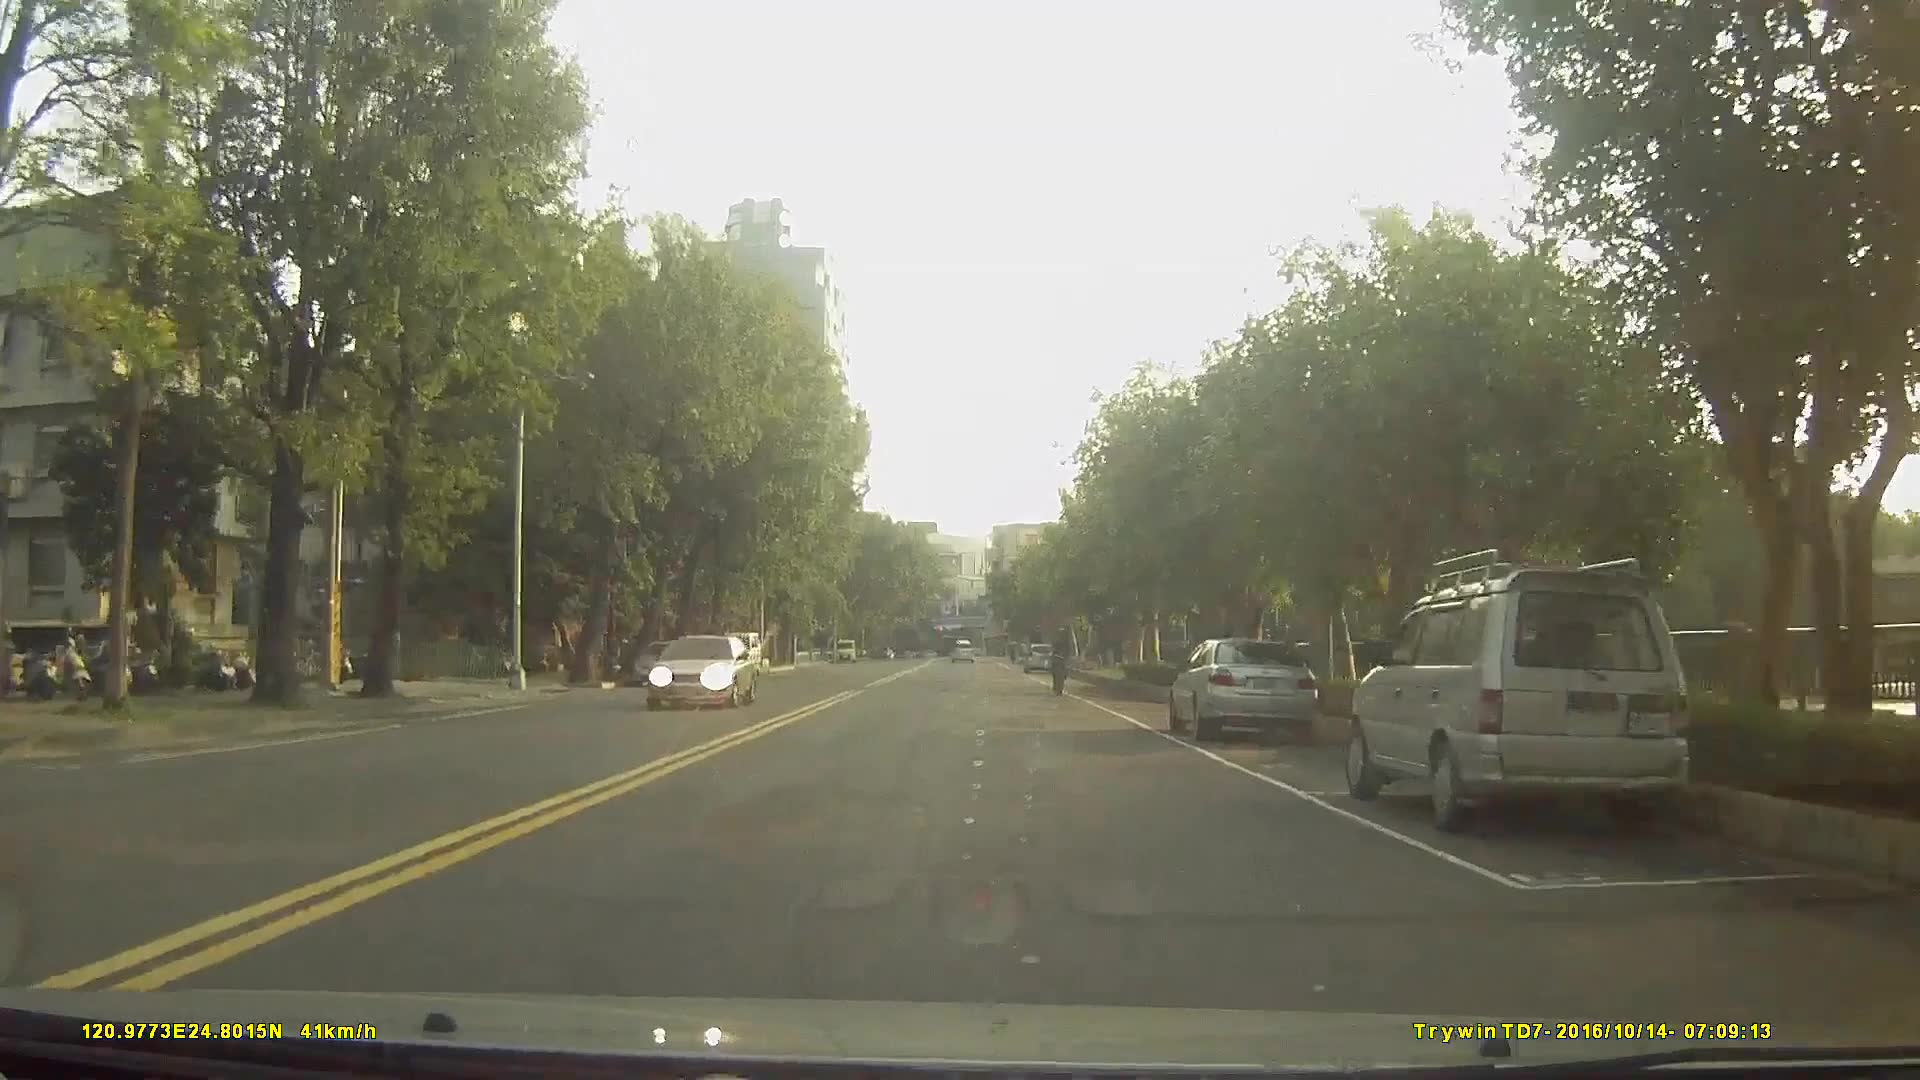rider: (1051, 622, 1075, 699)
vehicle: (1342, 564, 1697, 839), (1168, 633, 1318, 742), (642, 633, 759, 709), (630, 637, 696, 685), (713, 632, 762, 679), (1022, 639, 1057, 674), (948, 636, 976, 664)
